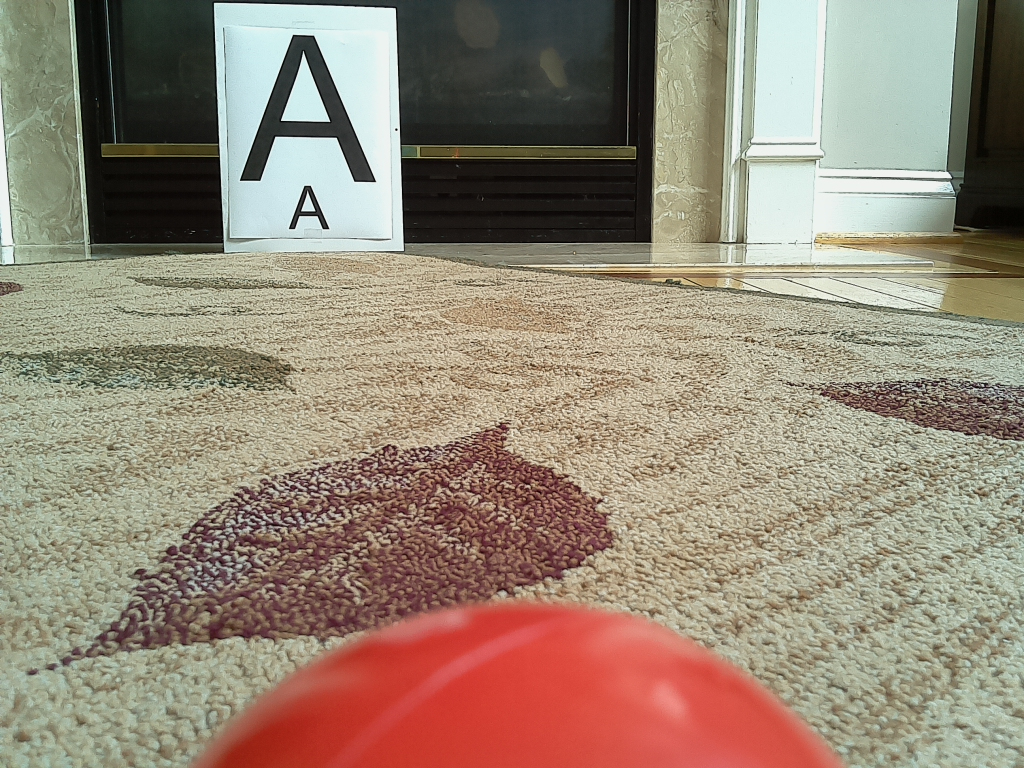letter: (243, 34, 377, 183)
